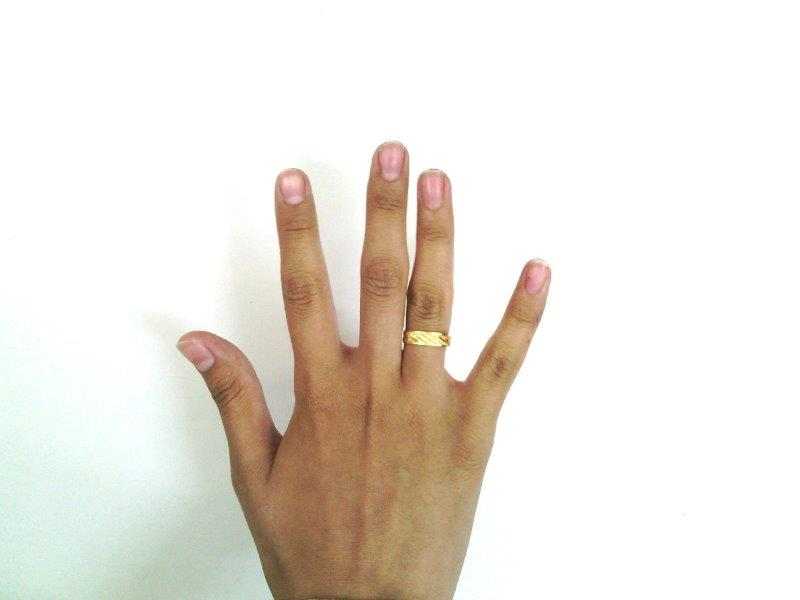hand: (177, 141, 551, 596)
